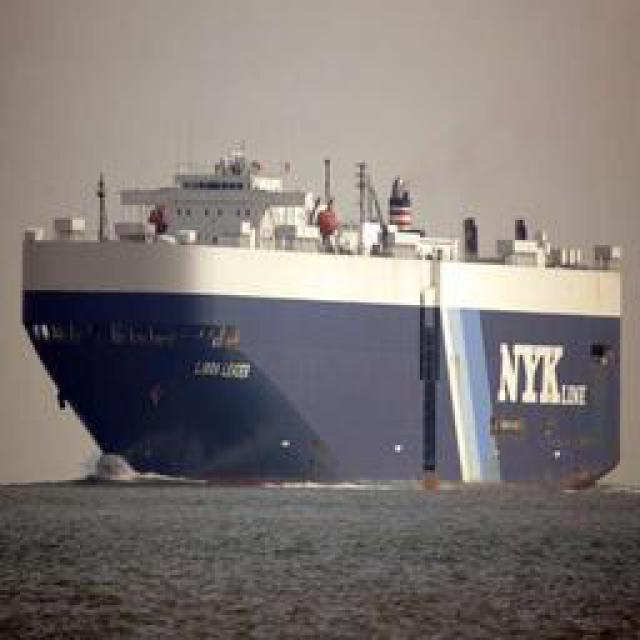Ship: (20, 126, 629, 501)
